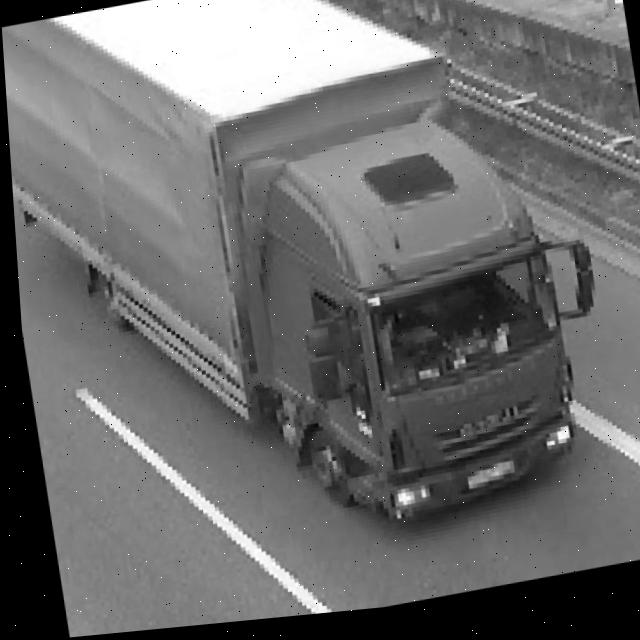truck: (203, 79, 633, 574)
